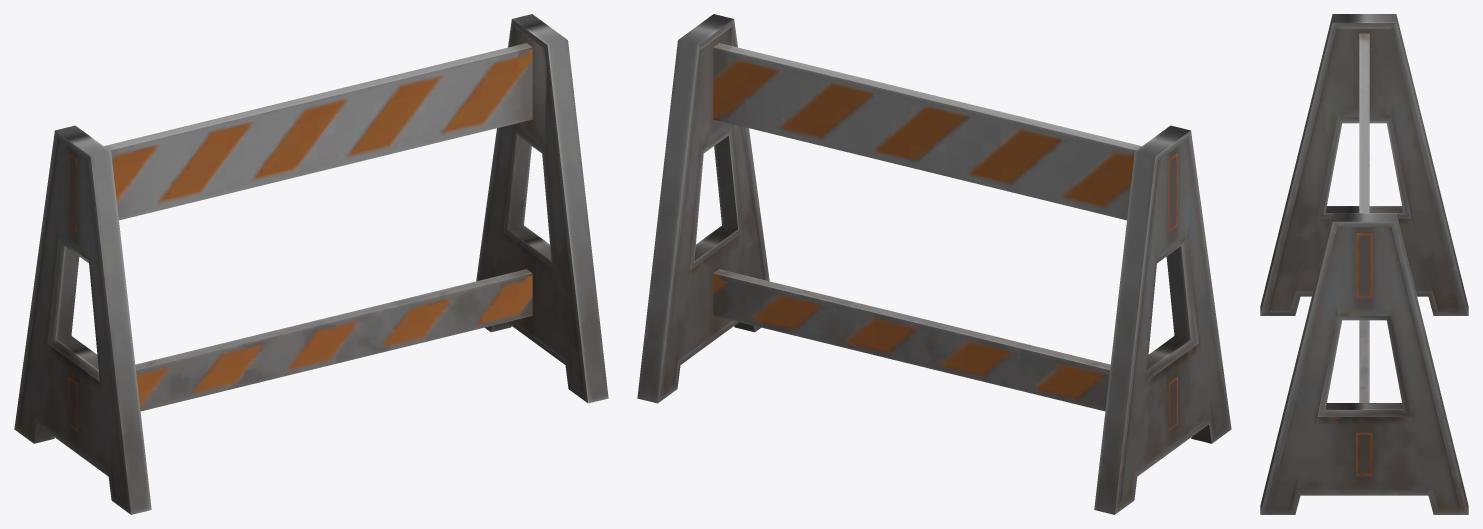
Rendered from Traffic_Barricade_02.fbx.
The picture shows the model from 3 angles, left to right: view 1: azimuth 30°, elevation 25°; view 2: azimuth 150°, elevation 25°; view 3: azimuth 270°, elevation 25°; orthographic projection. The views are drawn at different scales.
Parts seen in each view (by area): view 1: SM_Traffic_Barricade_02; view 2: SM_Traffic_Barricade_02; view 3: SM_Traffic_Barricade_02.
Boxes of the visible parts, x1,y1,x2,y2 form: SM_Traffic_Barricade_02: (14, 14, 608, 514); SM_Traffic_Barricade_02: (637, 14, 1231, 514); SM_Traffic_Barricade_02: (1260, 14, 1468, 514).
Size of the model in its own units: 1.53 by 1.01 by 0.6502.
